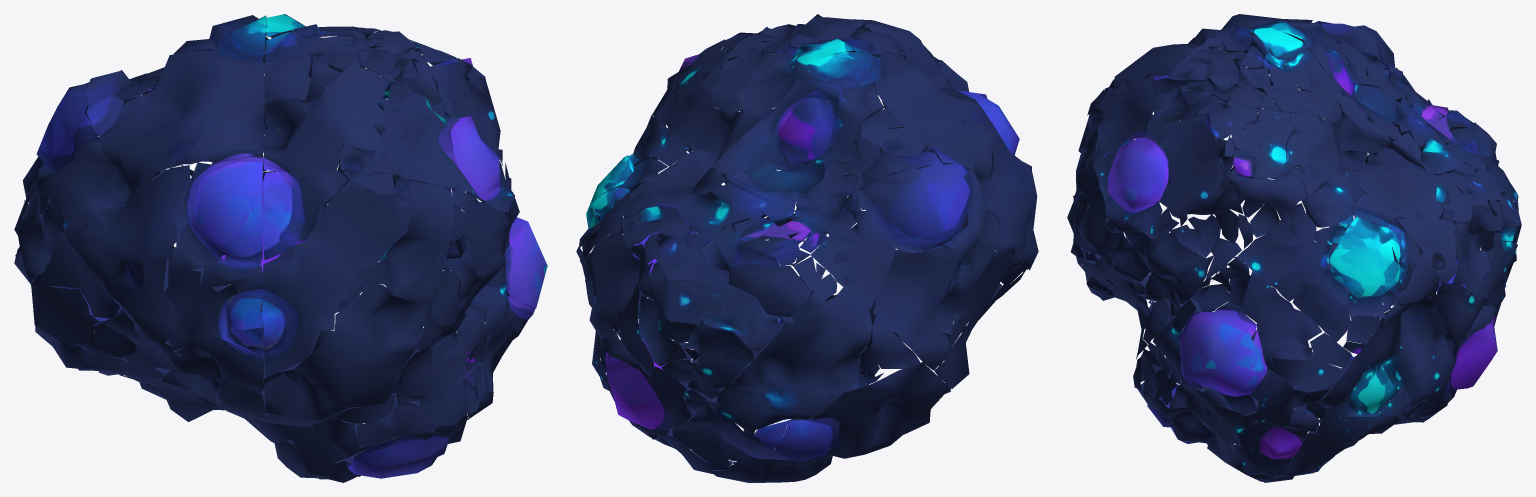
The model's file is TripoSpaceAsteroid.fbx.
The picture shows the model from 3 angles, left to right: view 1: azimuth 30°, elevation 25°; view 2: azimuth 150°, elevation 25°; view 3: azimuth 270°, elevation 25°; orthographic projection. The views are drawn at different scales.
Visible parts, largest first — view 1: TripoSpaceAsteroid; view 2: TripoSpaceAsteroid; view 3: TripoSpaceAsteroid.
Boxes of the visible parts, x1,y1,x2,y2 form: TripoSpaceAsteroid: (14,14,547,482); TripoSpaceAsteroid: (576,14,1038,482); TripoSpaceAsteroid: (1067,14,1521,482).
Size of the model in its own units: 4.55 by 4.56 by 4.5.
Materials: 1 (1 with a texture image).
